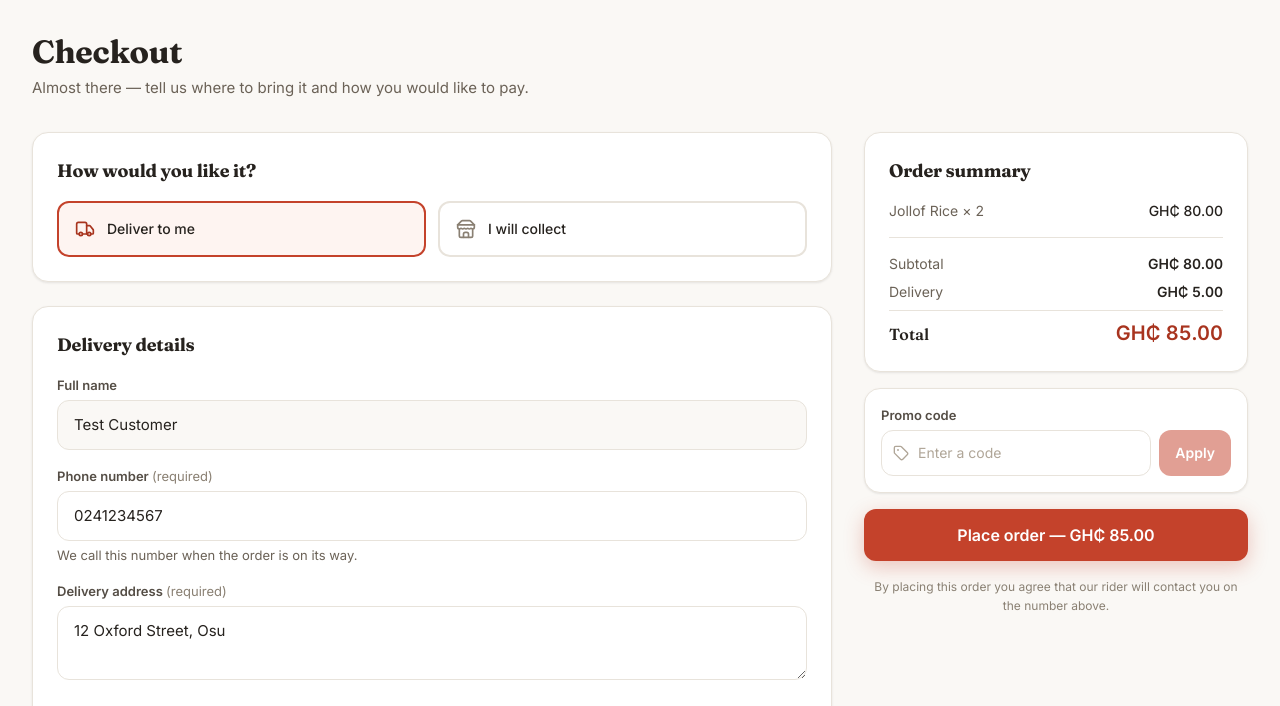
Test case: CheckoutPage › shows the amount the server recorded on the order
Click the button "Place order — GH₵ 85.00" at (1056, 535), box [864,509,1248,561]
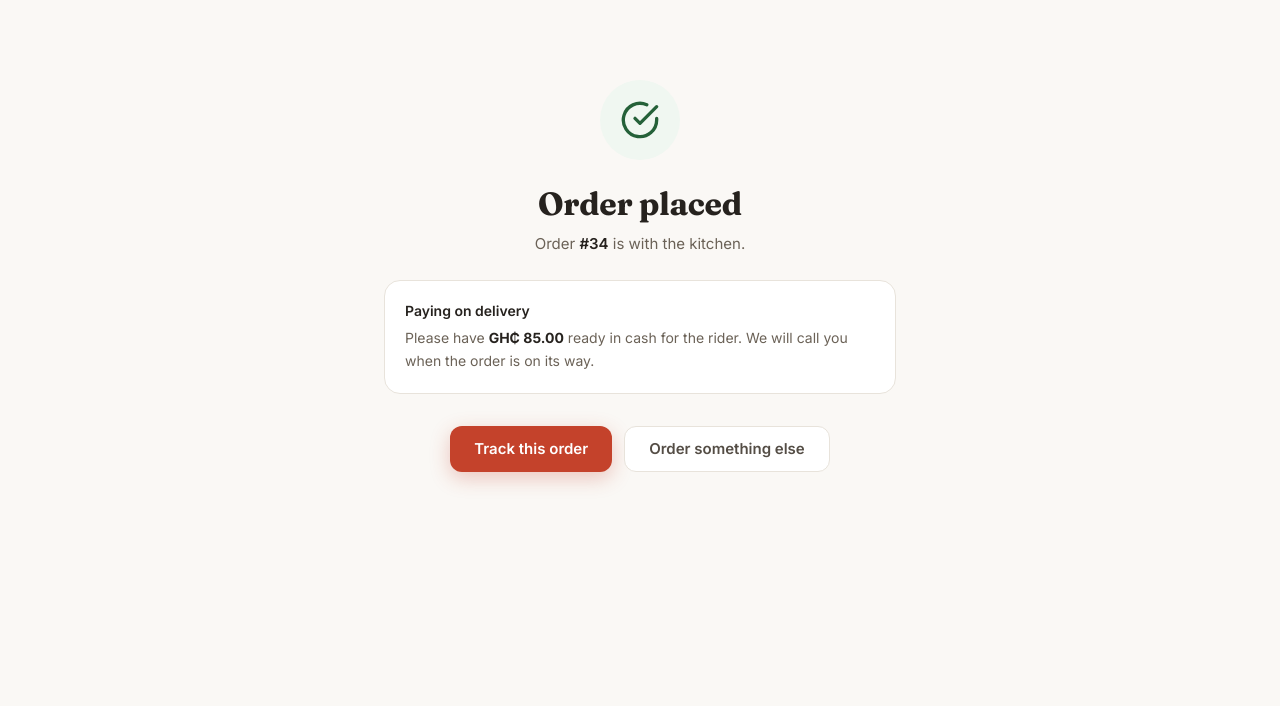
Expected: the text "GH₵ 85.00" is shown, [489,329,564,346]
Now the heading "Order placed" is shown, box [538,184,742,223]
Now the text "#34" is shown, box [579,234,609,253]
